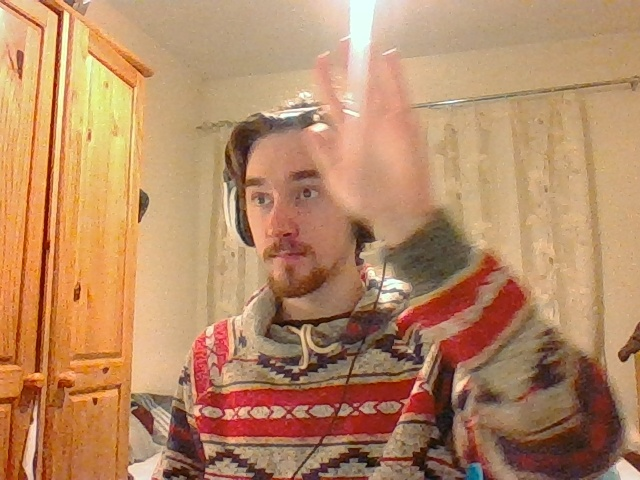hello: (306, 39, 435, 233)
